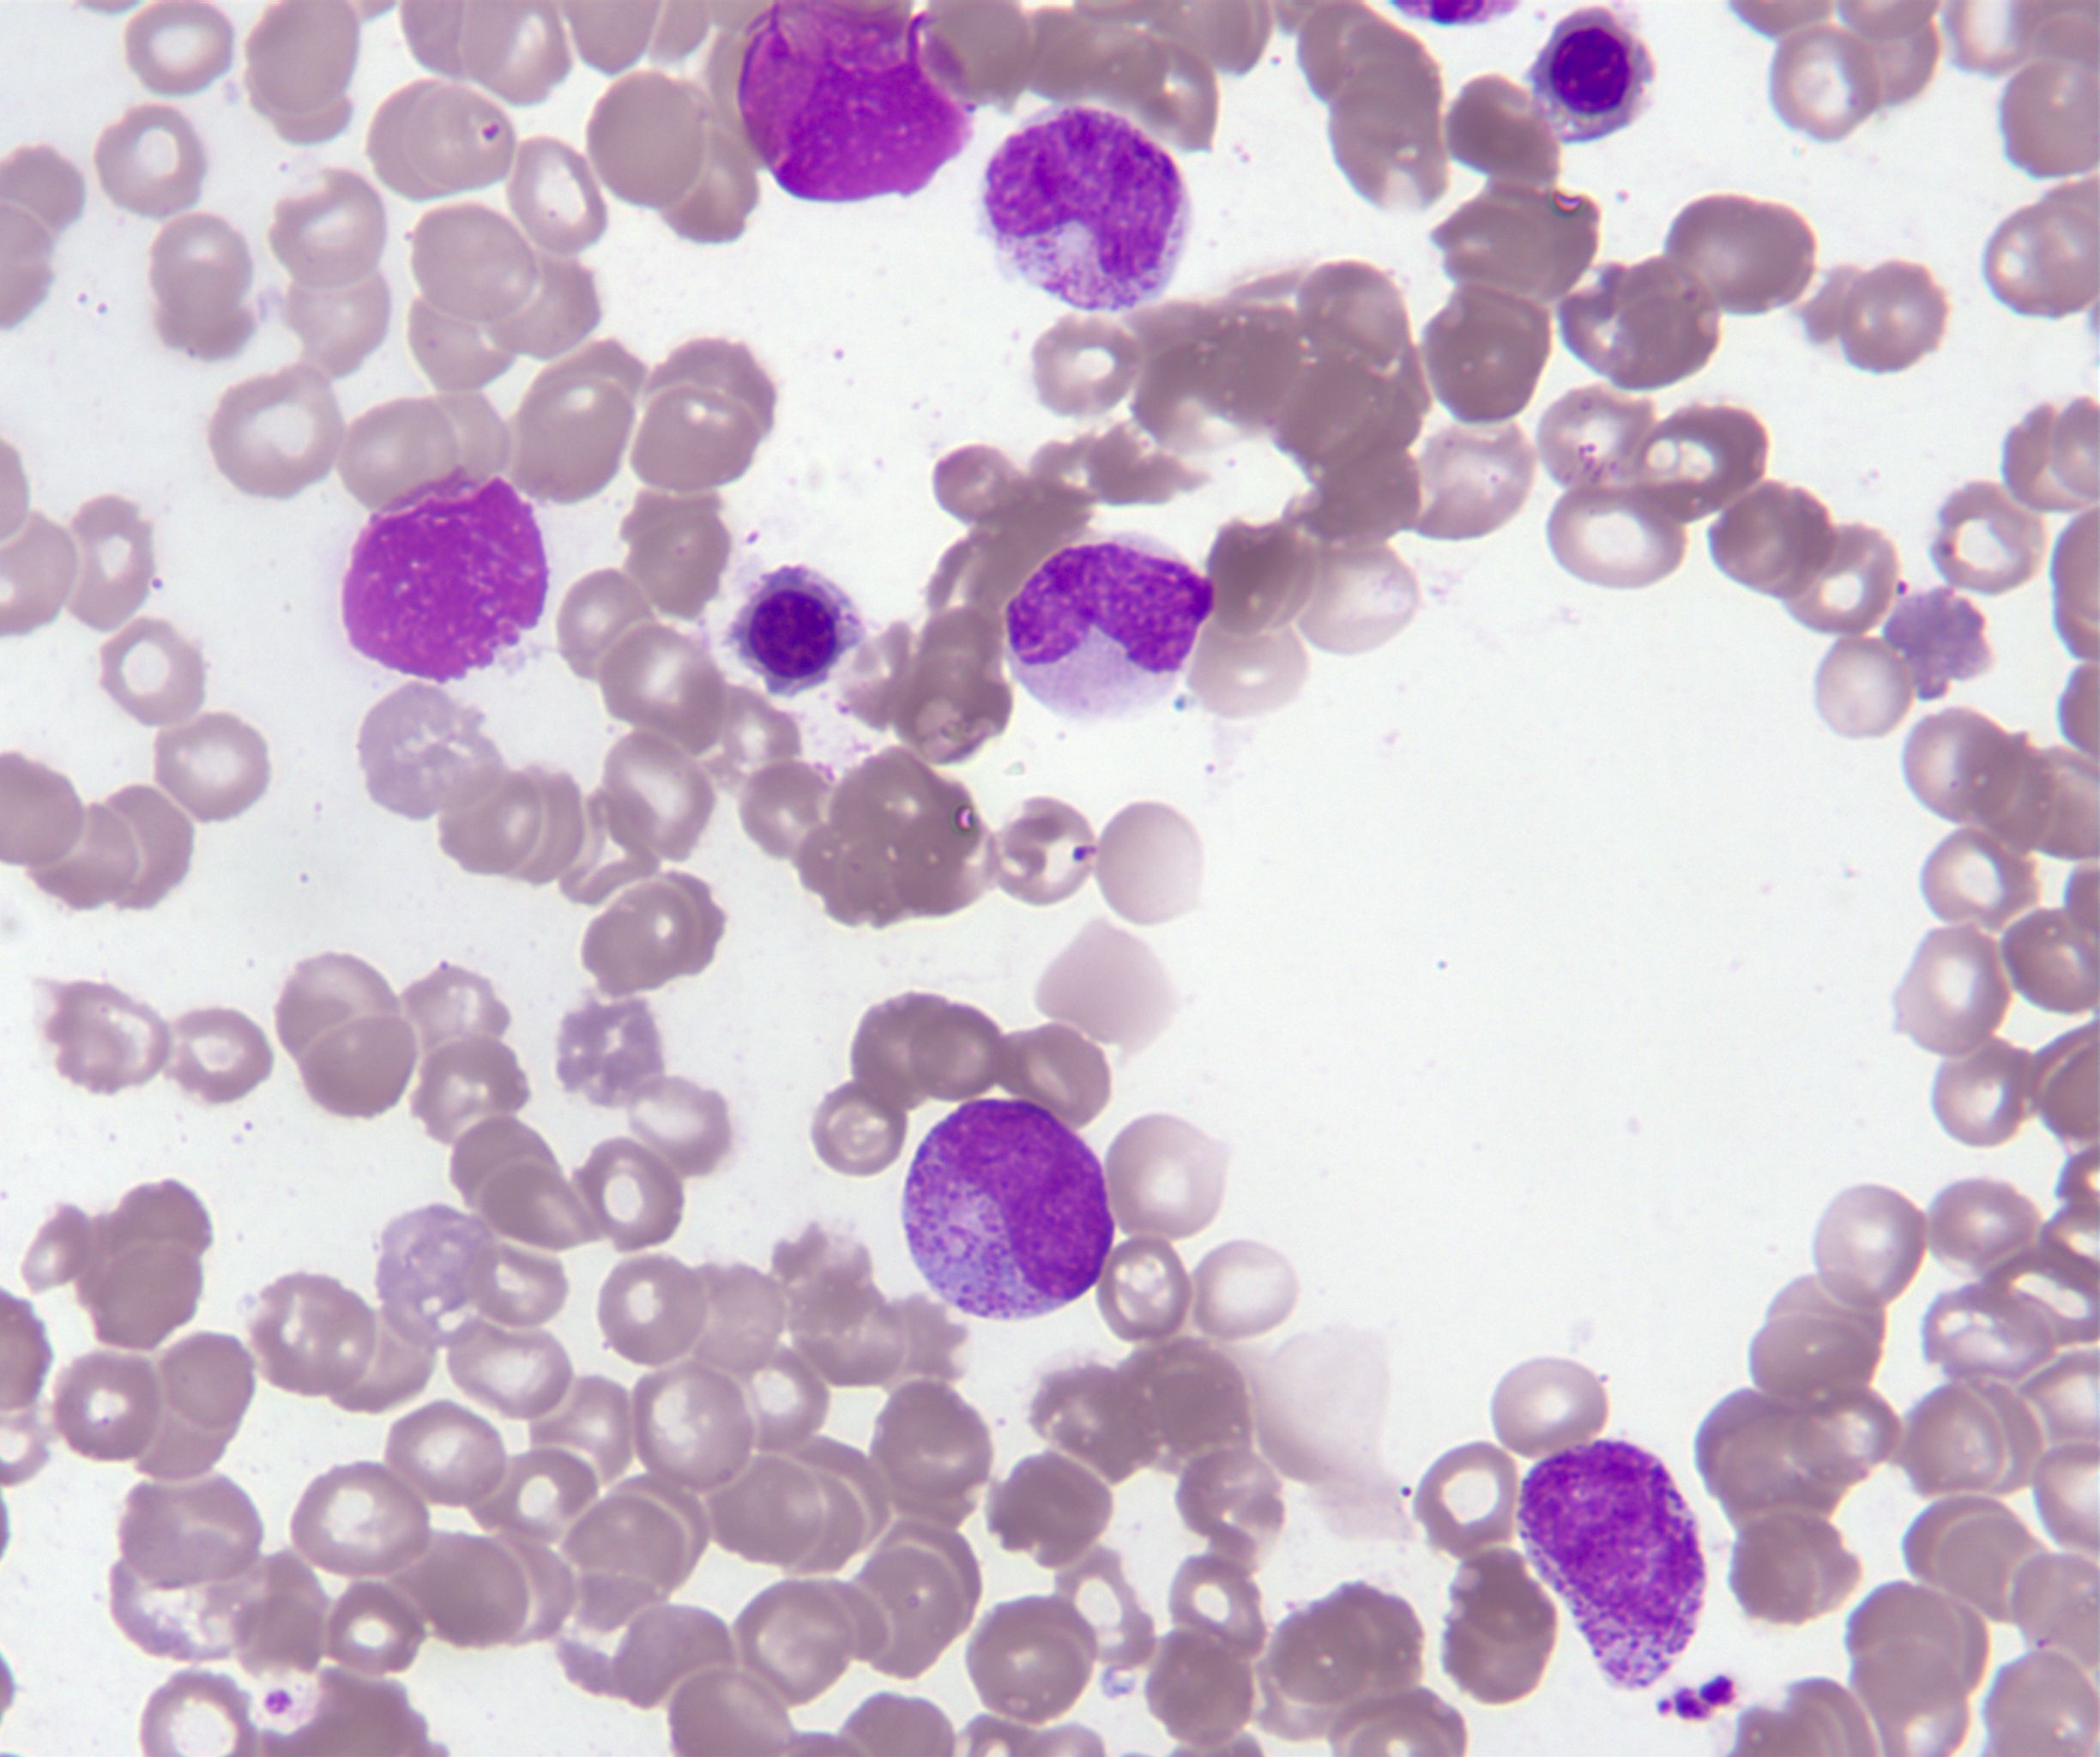24: (724, 565, 865, 698), (1523, 5, 1653, 141)
3: (902, 1099, 1113, 1321)
4: (1517, 1441, 1704, 1689), (987, 105, 1190, 311), (1003, 530, 1216, 719)
x: (736, 3, 973, 201), (344, 466, 548, 682)
